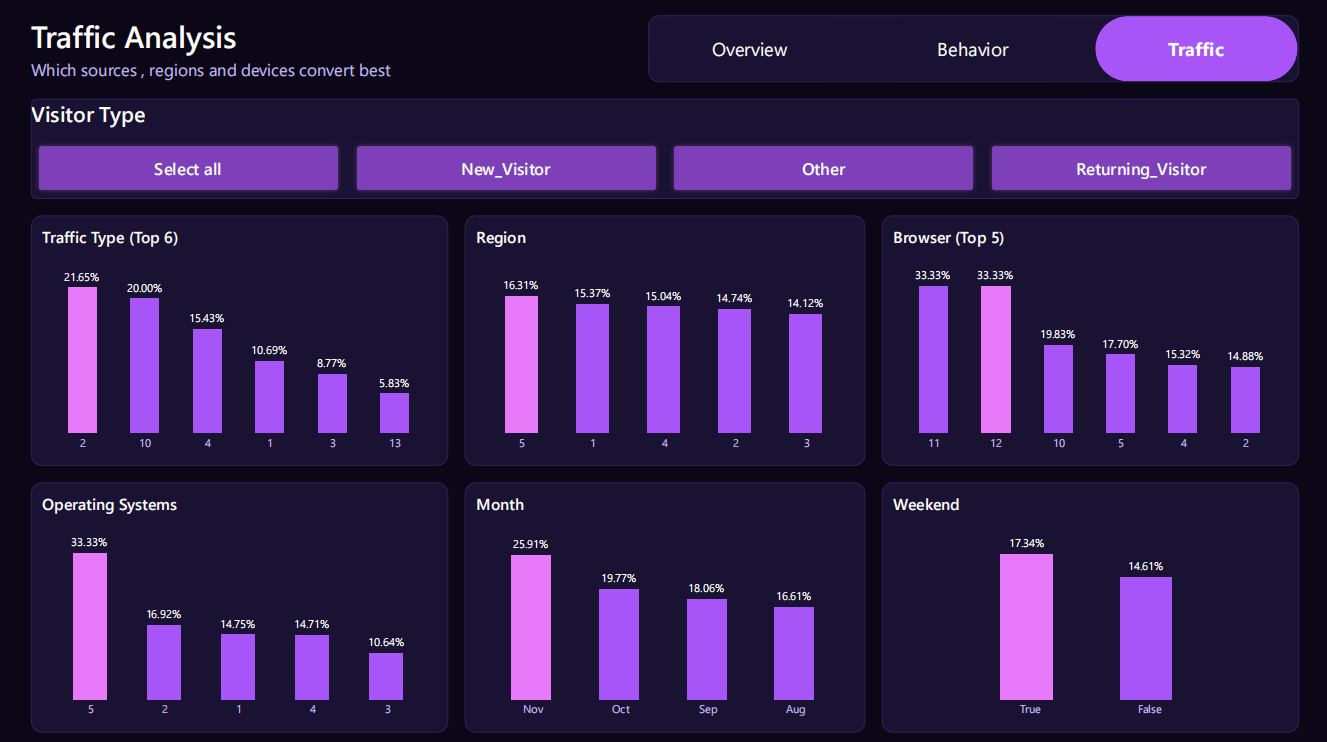

Layout of this report page (visuals, bound fields, positions):
{"tool":"powerbi","page":{"name":"Traffic","canvas":[1920,1080],"ordinal":2},"visuals":[{"type":"pageNavigator","box":[936,24,936,96],"z":0},{"type":"textbox","title":"Traffic Analysis","box":[48,24,700,100],"z":1000},{"type":"advancedSlicerVisual","title":"Visitor Type","fields":{"Values":["Shoppers.VisitorType"]},"box":[48,144,1824,144],"z":2000},{"type":"clusteredColumnChart","title":"Traffic Type (Top 6)","fields":{"Category":["Shoppers.TrafficType"],"Y":["Shoppers.Conversion Rate"]},"box":[48,312,600,360],"z":2001},{"type":"clusteredColumnChart","title":"Region","fields":{"Category":["Shoppers.Region"],"Y":["Shoppers.Conversion Rate"]},"box":[672,312,576,360],"z":2002},{"type":"clusteredColumnChart","title":"Browser (Top 5)","fields":{"Category":["Shoppers.Browser"],"Y":["Shoppers.Conversion Rate"]},"box":[1272,312,600,360],"z":2003},{"type":"clusteredColumnChart","title":"Weekend","fields":{"Category":["Shoppers.Weekend"],"Y":["Shoppers.Conversion Rate"]},"box":[1272,696,600,360],"z":2004},{"type":"clusteredColumnChart","title":"Operating Systems","fields":{"Category":["Shoppers.OperatingSystems"],"Y":["Shoppers.Conversion Rate"]},"box":[48,696,600,360],"z":2005},{"type":"clusteredColumnChart","title":"Month","fields":{"Category":["Shoppers.Month"],"Y":["Shoppers.Conversion Rate"]},"box":[672,696,576,360],"z":2006}]}

Visuals, with their boxes in screenshot pixels (x1, y1, x2, y2), scaled from the page's 1920x1080 canvas onto the 1327x742 screenshot:
pageNavigator: locate(647, 16, 1294, 82)
"Traffic Analysis" textbox: locate(33, 16, 517, 85)
"Visitor Type" advancedSlicerVisual: locate(33, 99, 1294, 198)
"Traffic Type (Top 6)" clusteredColumnChart: locate(33, 214, 448, 462)
"Region" clusteredColumnChart: locate(464, 214, 863, 462)
"Browser (Top 5)" clusteredColumnChart: locate(879, 214, 1294, 462)
"Weekend" clusteredColumnChart: locate(879, 478, 1294, 726)
"Operating Systems" clusteredColumnChart: locate(33, 478, 448, 726)
"Month" clusteredColumnChart: locate(464, 478, 863, 726)
